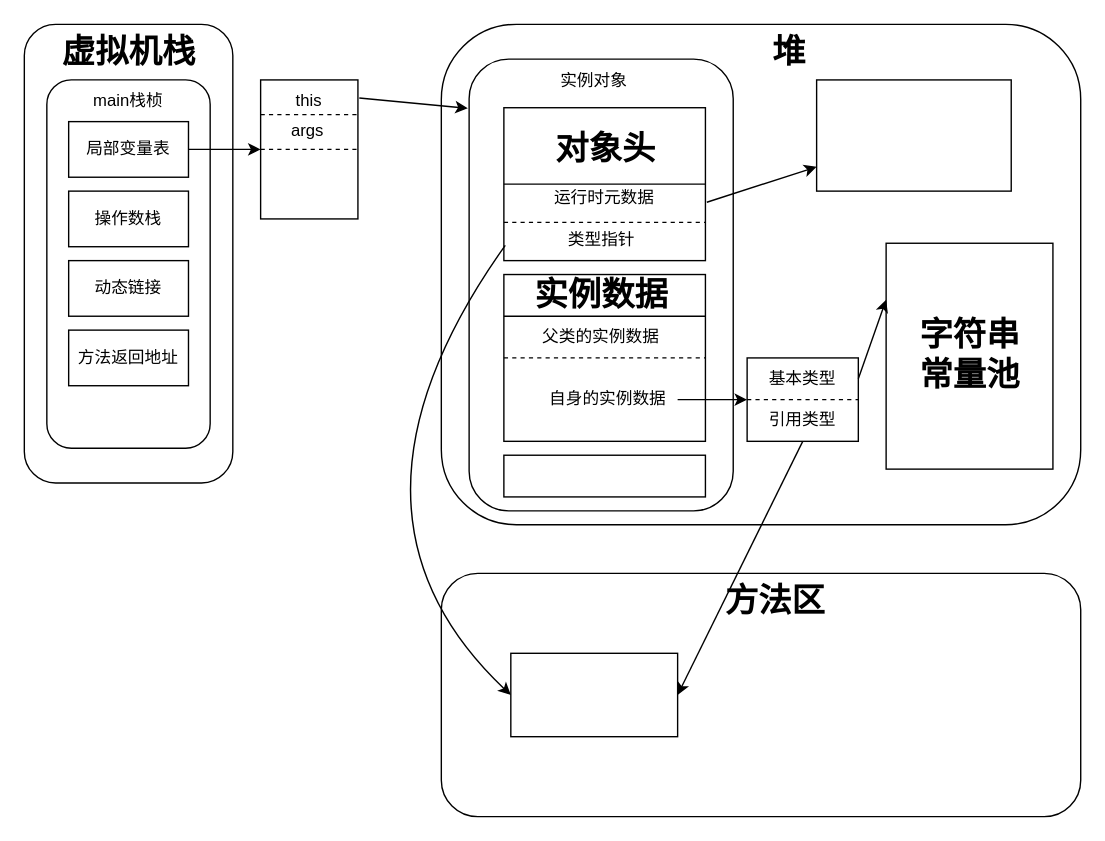
The diagram is 1105 pixels wide and 841 high, and some of its shapes have lost their labels. Here are the shapes that lost their labels. From the top down, the centre of each, then its label:
At [913,135]: "哈希值、GC分代年龄、锁标志位、偏向锁、偏向锁id、线程持有的锁".
At [603,475]: "对齐填充（可有可无）".
At [593,694]: "class的元信息（类型、方法、类属性等）".
